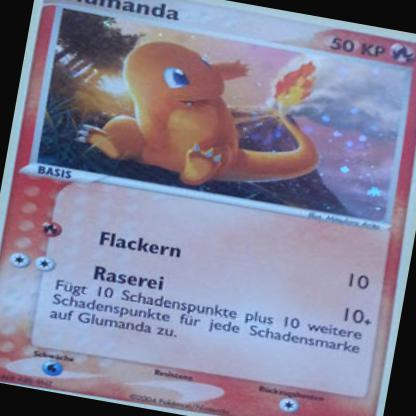Charmander: (84, 18, 339, 207)
